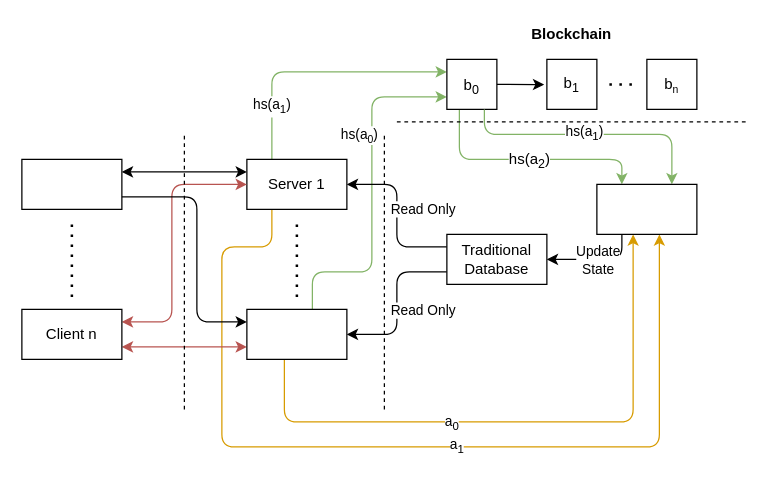
This 770x479 diagram has some shape labels left out. The centre of each missing label's shape, as x and y in pixels:
"Client 1" belongs at pixel 71 183.
"Server n" belongs at pixel 296 333.
"Supervisor" belongs at pixel 646 208.
